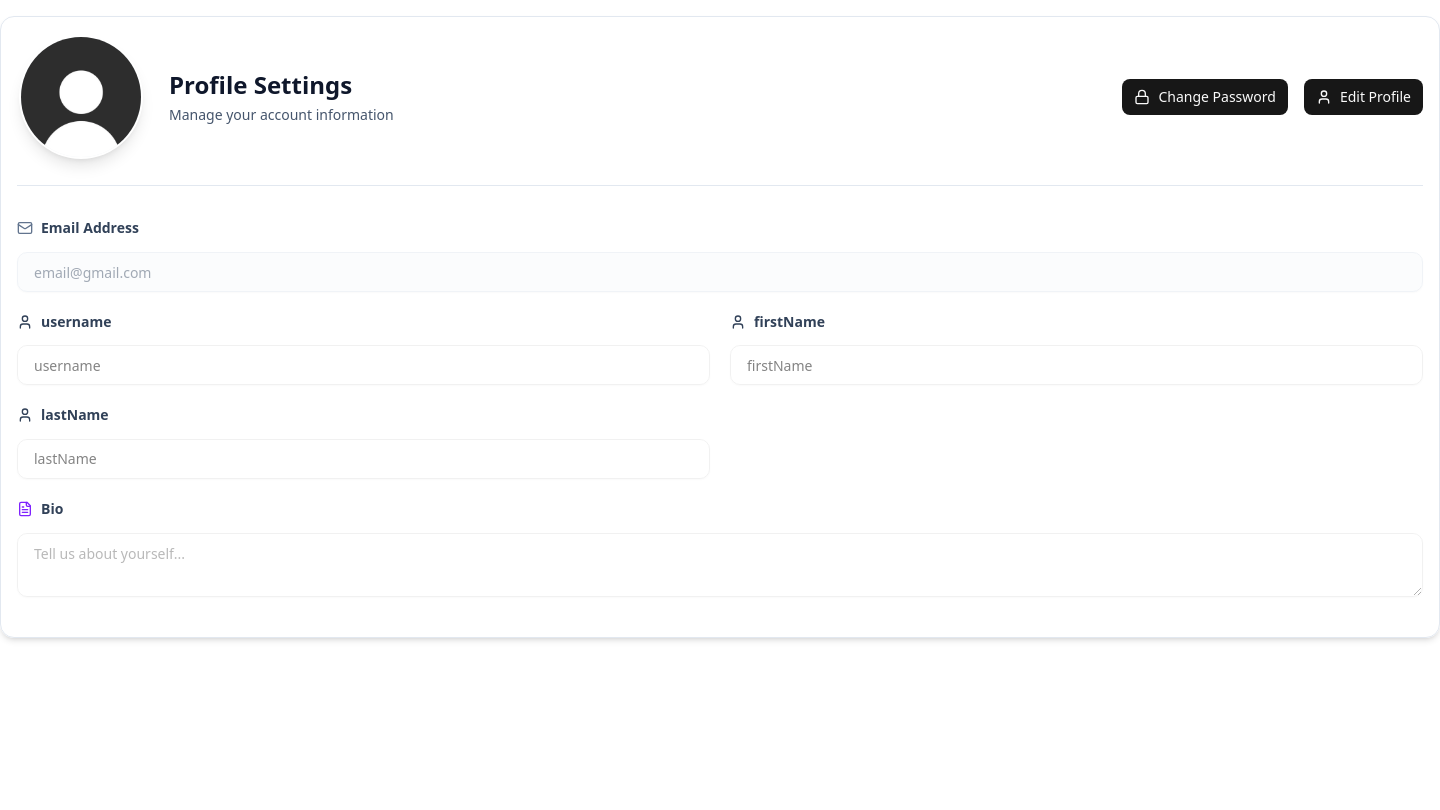
Test case:  › renders Dialog fields
What coordinates should you click on to do the following:
click the button "Change Password"
I would click on:
 (1205, 97)
Its box is [1122, 79, 1288, 115].
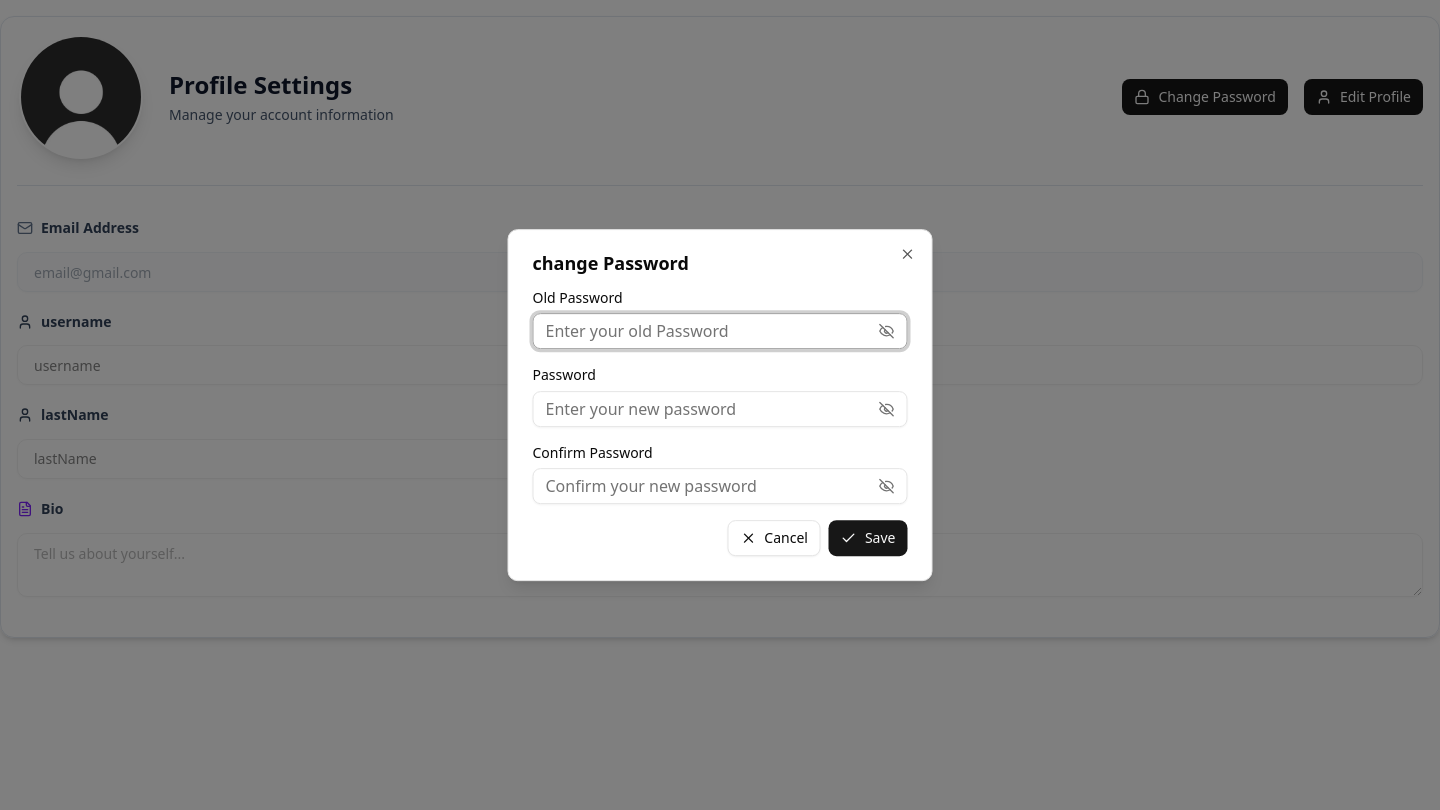
Expected: the password field labelled "Old Password" is shown, [534, 311, 878, 351]
Expected: the password field labelled "Password" is shown, [534, 389, 878, 429]
Expected: the password field labelled "Confirm Password" is shown, [534, 466, 878, 506]
